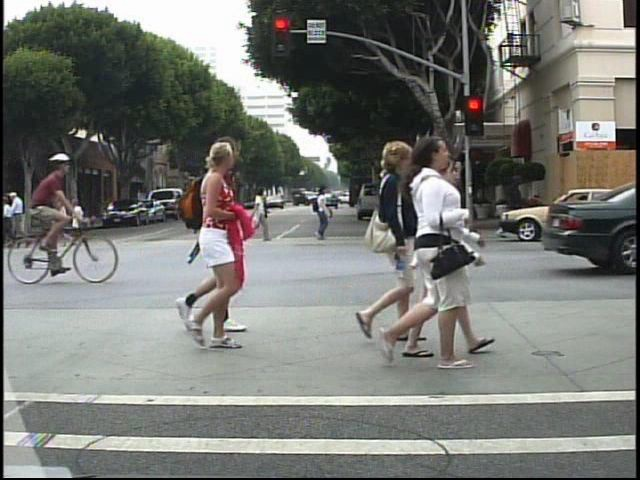person: (400, 136, 491, 377), (170, 138, 258, 349), (399, 159, 489, 363), (344, 140, 414, 349), (203, 143, 256, 340), (15, 149, 80, 278), (305, 183, 339, 245), (247, 185, 275, 248), (414, 177, 442, 240), (10, 188, 30, 250), (377, 187, 393, 223)
